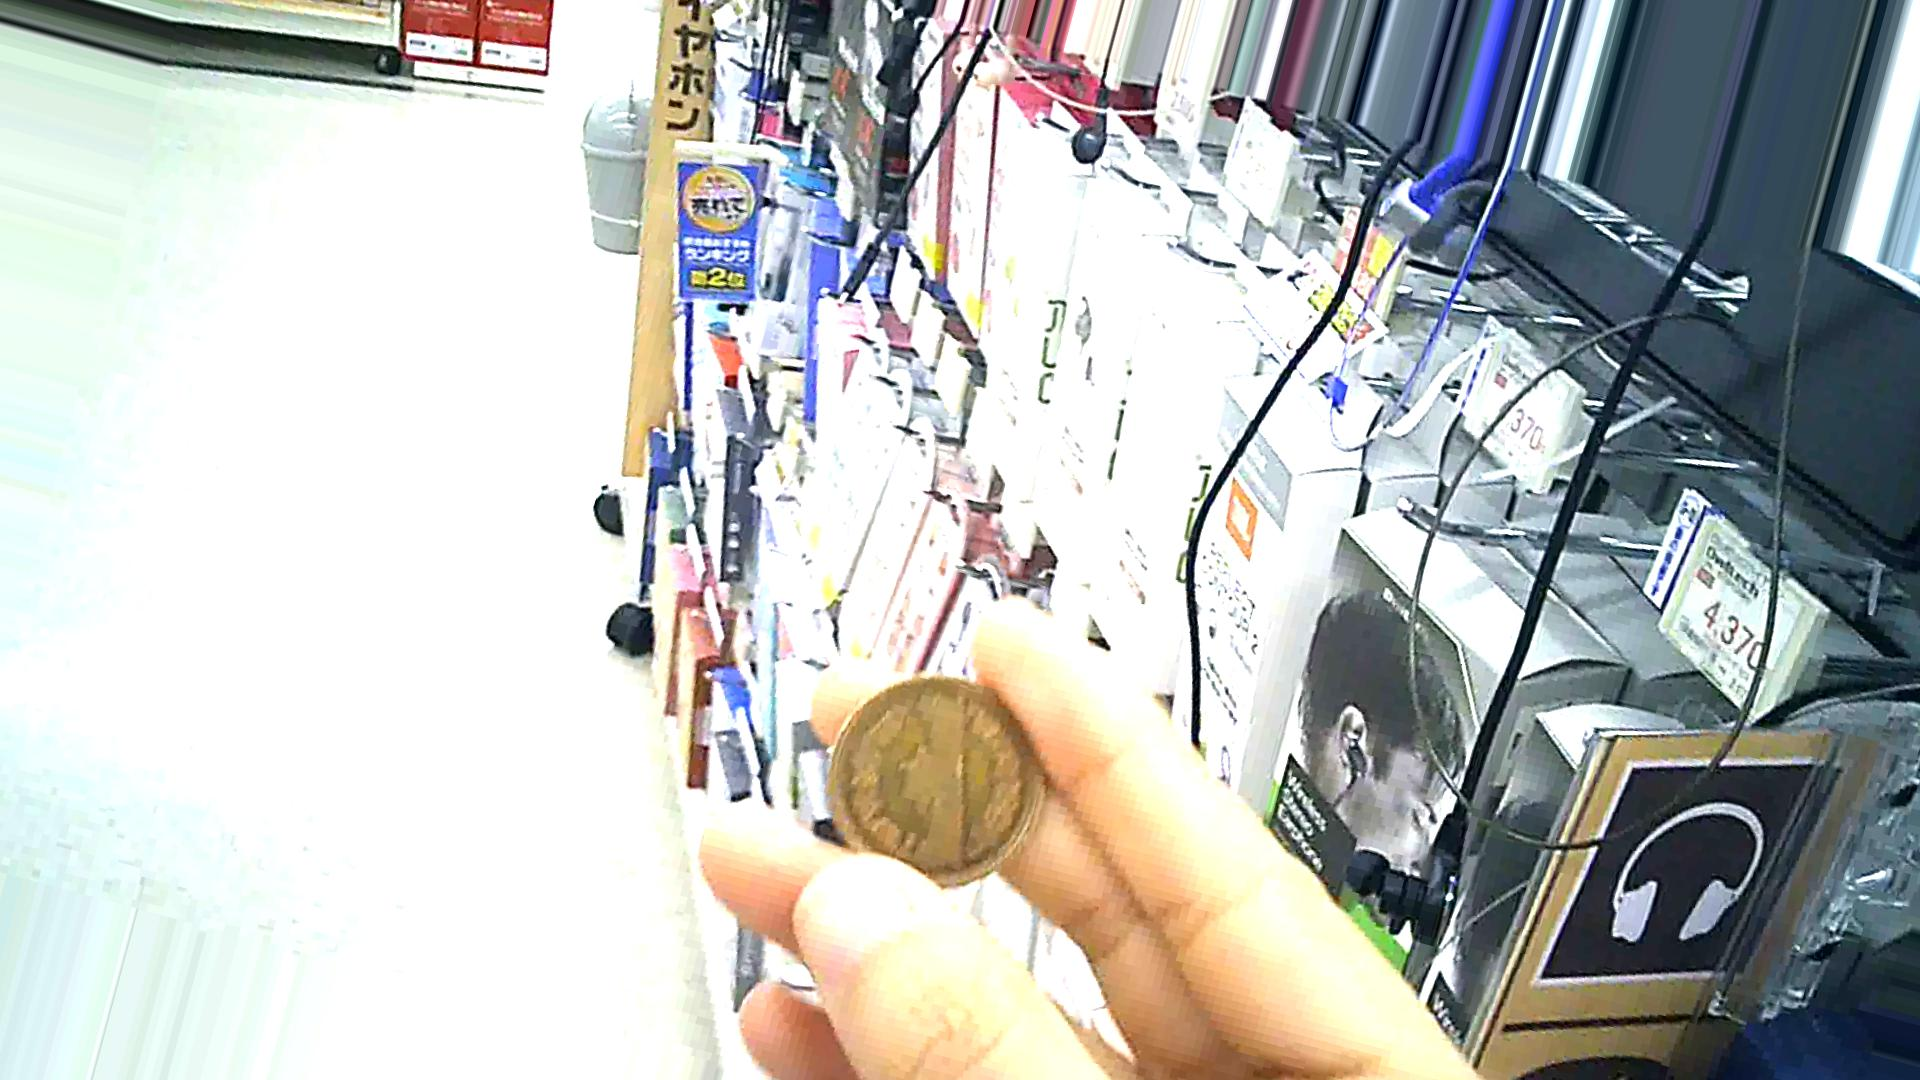10 Yen: (820, 673, 1062, 898)
